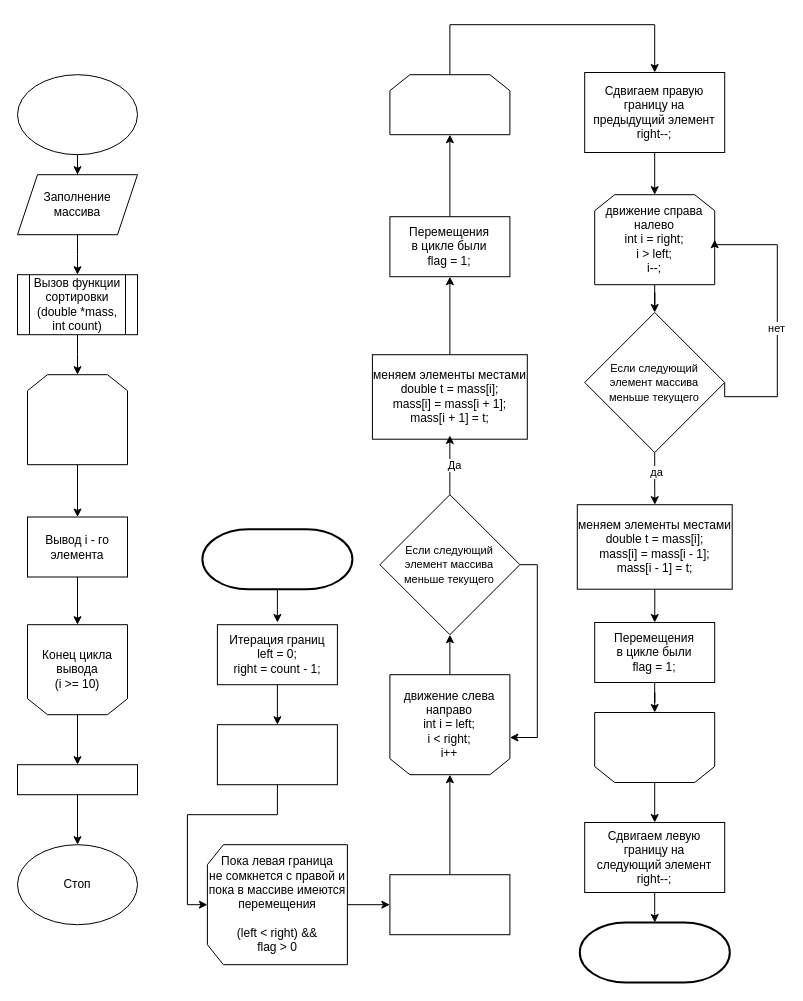
This 803x1001 diagram has some shape labels left out. The shapes that lost their labels are listed below. From the top down, each one's box as (x1, y1, x2, y2) in pixels, then its label:
(16, 74, 138, 155): Старт
(389, 74, 510, 135): Конец цикла движения (i >= right)
(26, 374, 128, 465): Цикл вывода отсортированных элементов (int i = 0; i < 10; i++)
(201, 528, 353, 590): Начало функции сортировки
(216, 724, 337, 785): Итерация наличия перемещений flag = 1;
(594, 712, 715, 782): Конец цикла движения (i <= left)
(16, 764, 138, 795): return(0);
(389, 874, 510, 935): flag = 0
(578, 921, 730, 983): Конец функции
